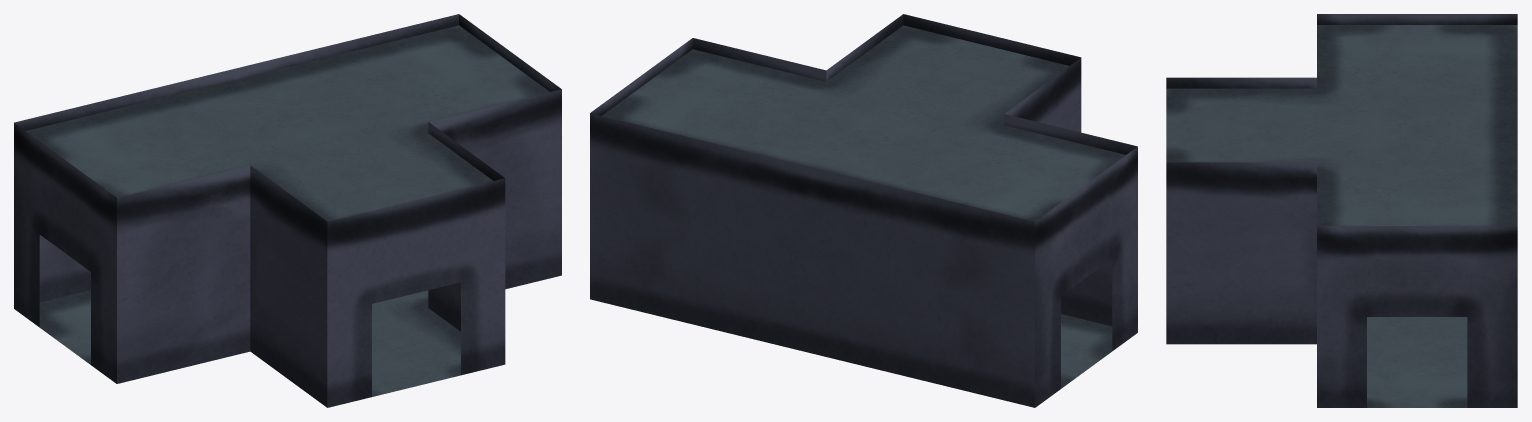
Rendered from thall0.glb.
The picture shows the model from 3 angles, left to right: view 1: azimuth 30°, elevation 25°; view 2: azimuth 150°, elevation 25°; view 3: azimuth 270°, elevation 25°; orthographic projection. The views are drawn at different scales.
Visible parts, largest first — view 1: thall0; view 2: thall0; view 3: thall0.
Part boxes in pixels (x1,y1,x2,y2): thall0: (14,14,561,407); thall0: (590,14,1137,407); thall0: (1166,14,1517,407).
Bounding box in the file's own units: 50 × 20 × 35.
1 material, 1 textured.
